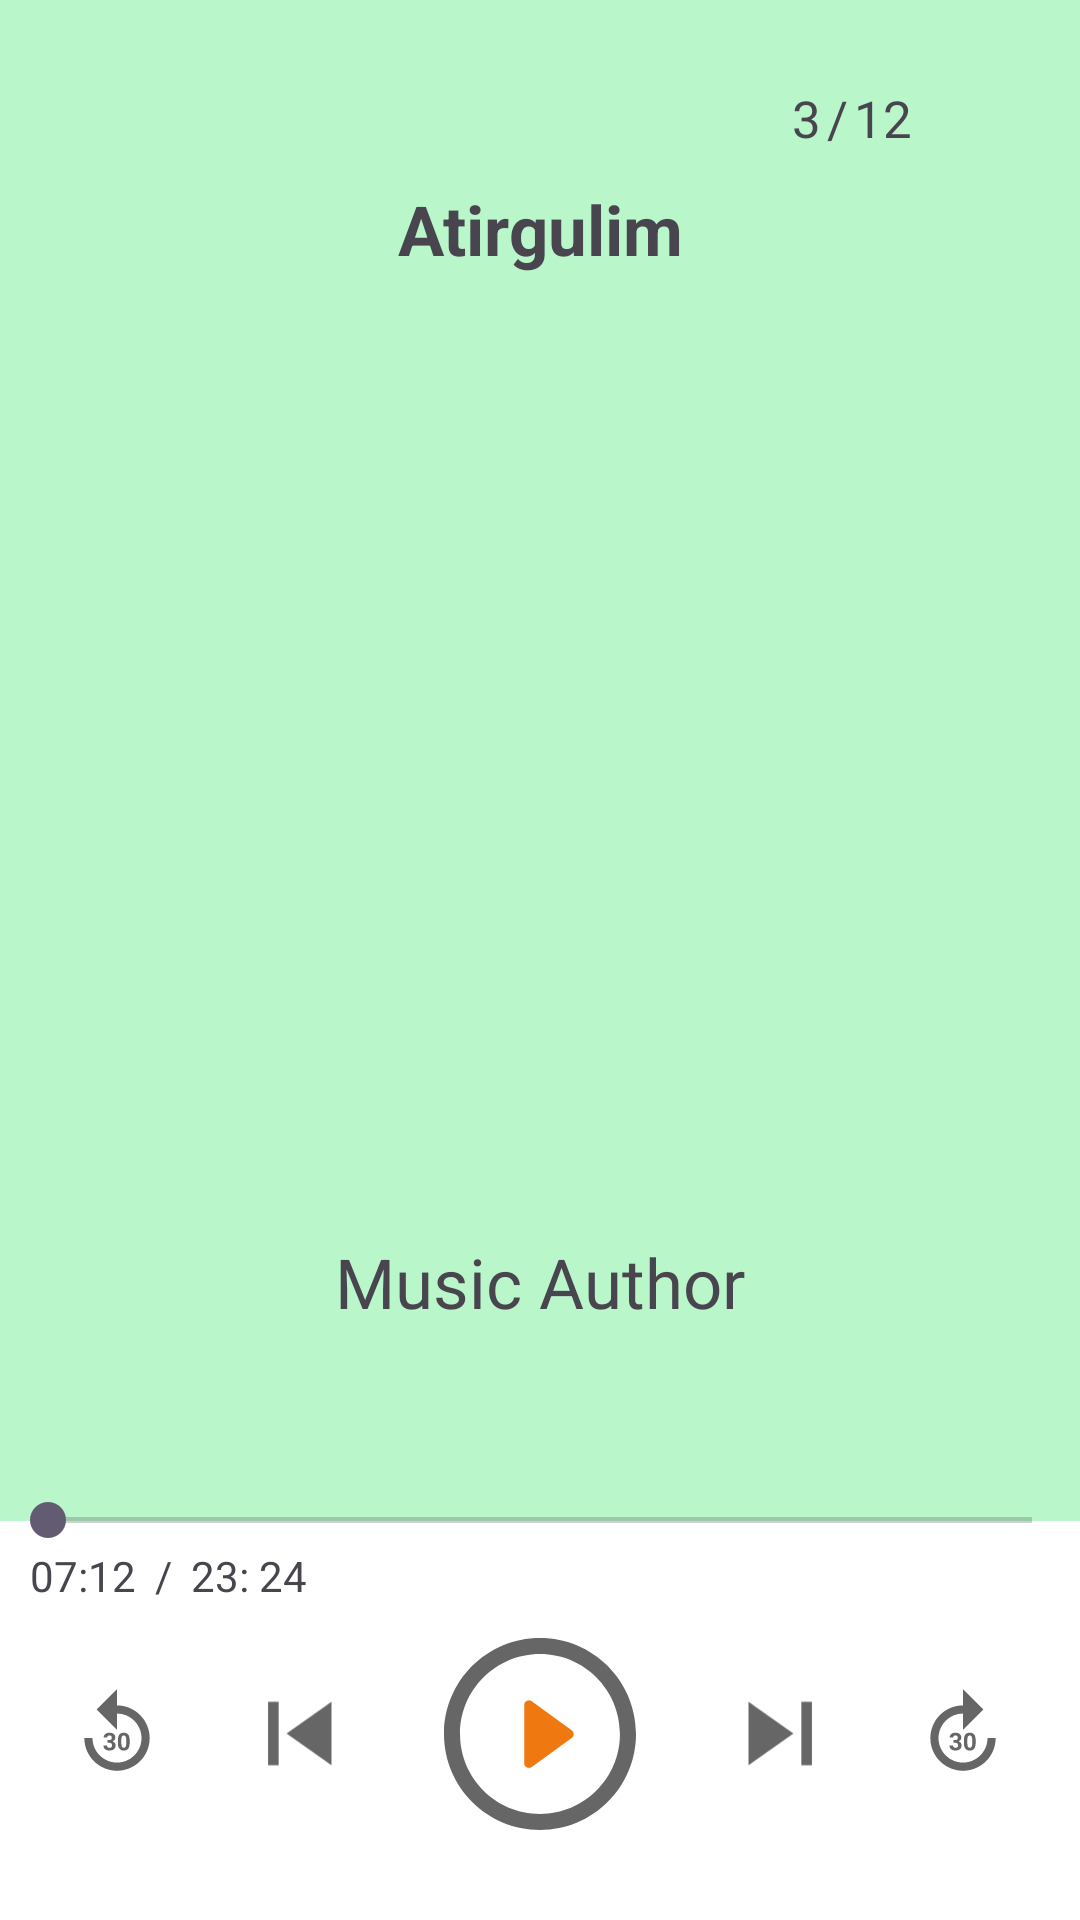

Named icons in this screenshot (1080*1920) and their centers, (x,y):
forward: (963,1730)
playy: (540,1734)
replay: (117,1730)
skip next: (780,1733)
skip previous: (300,1733)
